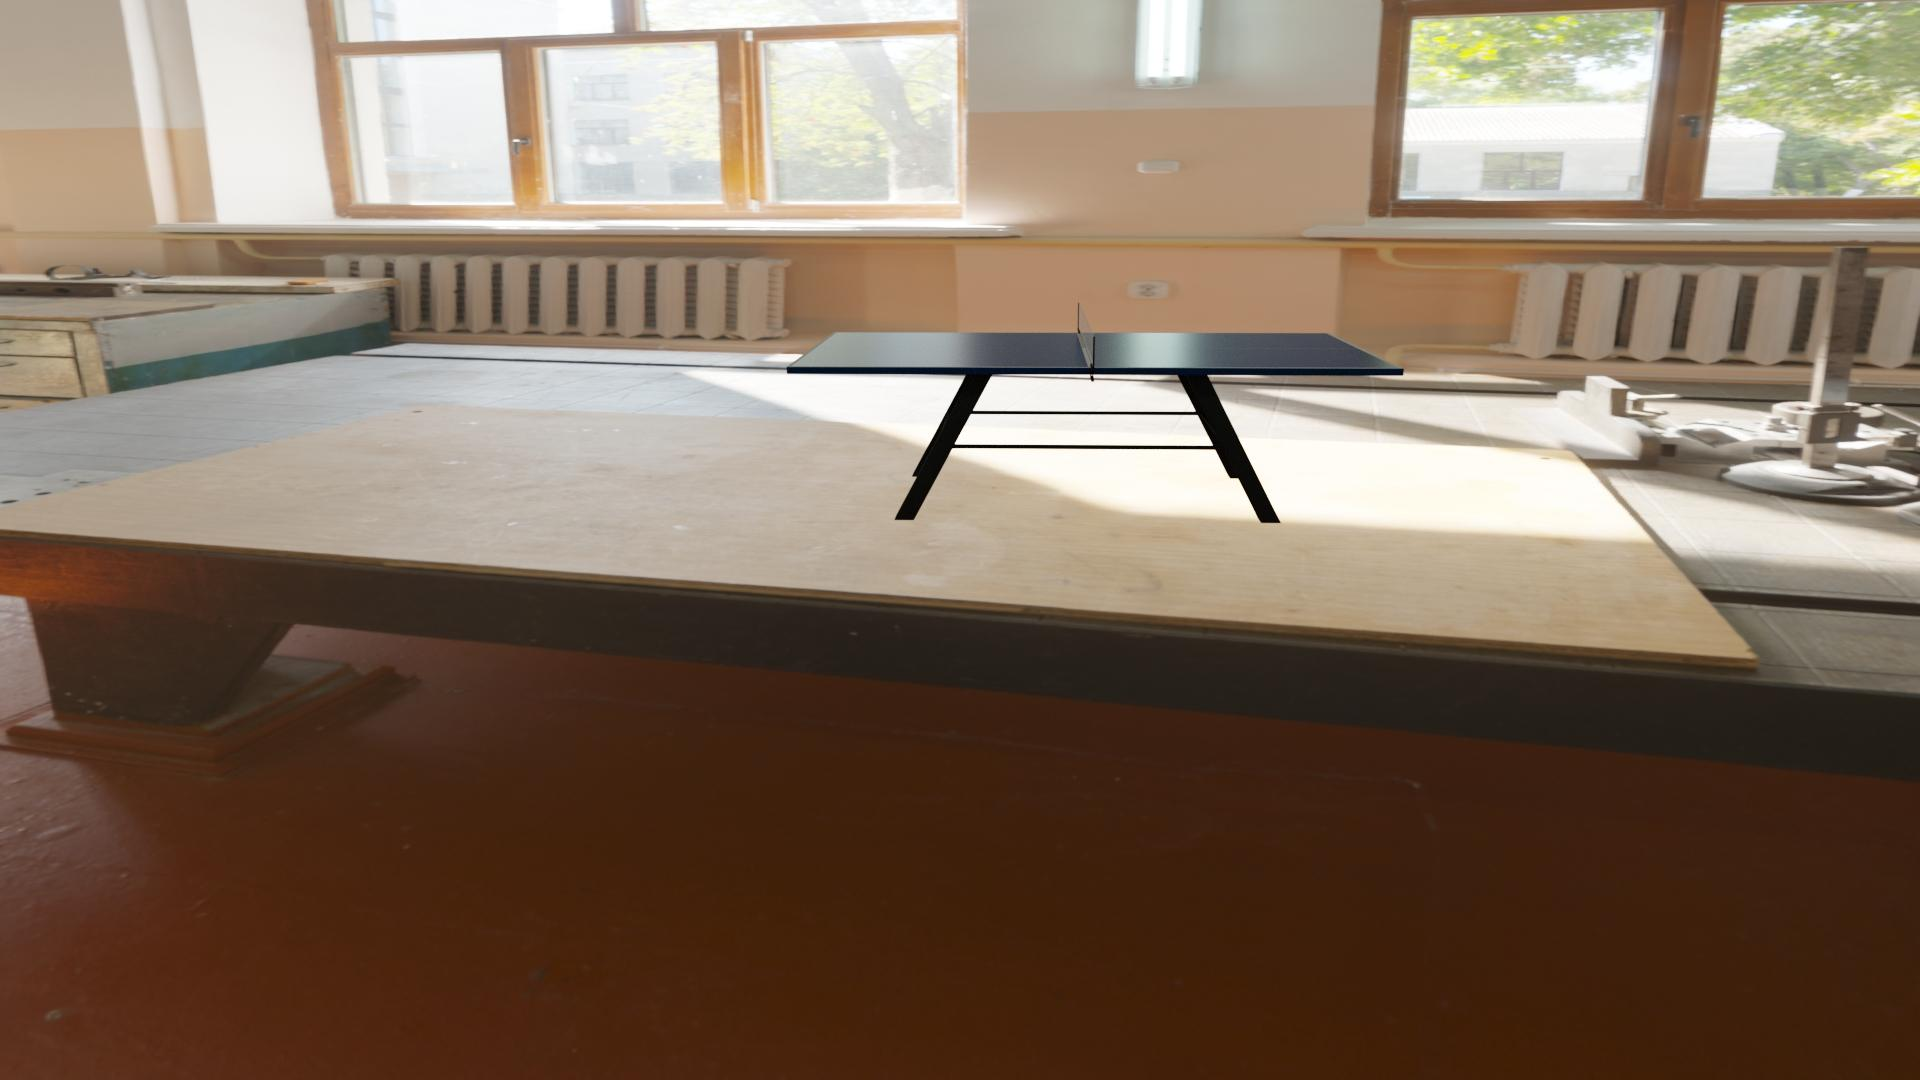table: (791, 332, 1399, 368)
